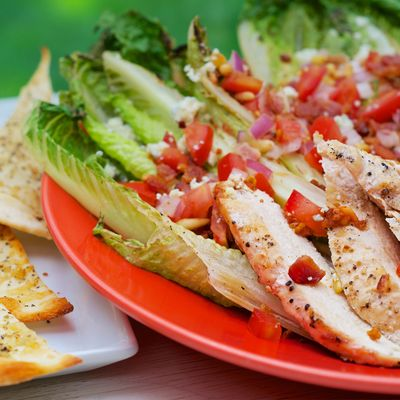curry: (235, 0, 400, 85)
soup: (0, 47, 55, 241)
